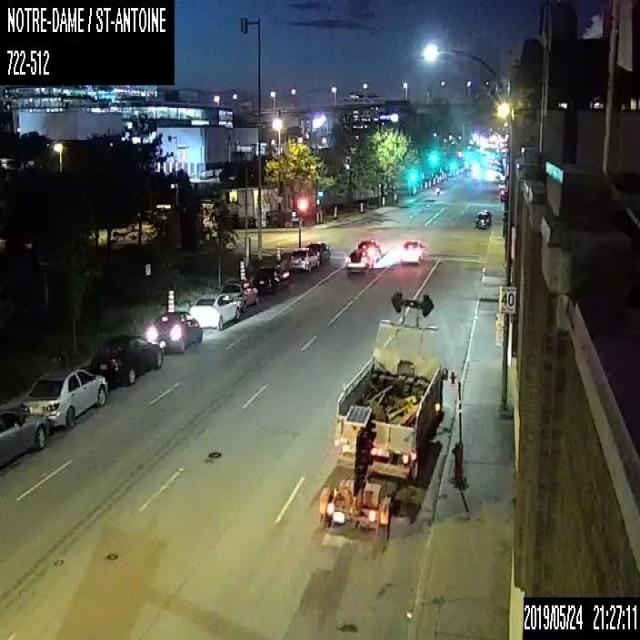construction: (167, 286, 176, 310), (238, 258, 246, 278), (274, 244, 281, 263), (332, 205, 337, 218), (359, 201, 363, 212), (393, 192, 397, 201), (381, 195, 384, 206)
vehicle: (316, 289, 446, 544), (19, 368, 107, 428), (90, 334, 163, 384), (0, 405, 48, 467), (147, 310, 202, 352), (188, 292, 240, 329), (236, 185, 282, 225), (220, 280, 258, 312), (253, 264, 289, 293), (345, 248, 373, 276), (289, 246, 319, 271), (356, 237, 382, 261), (399, 238, 424, 262), (307, 240, 330, 264), (473, 209, 490, 228)
